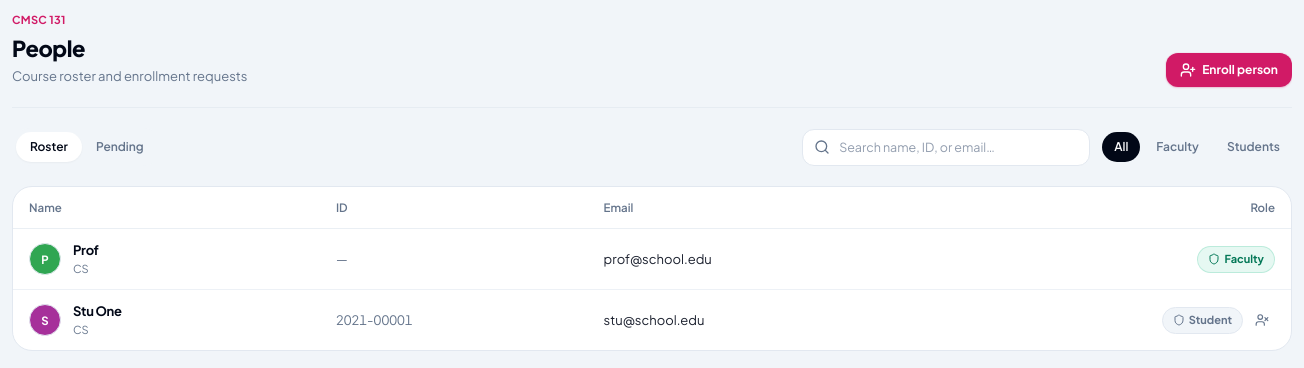
Test: PeopleView remove student › filters roster by Faculty and Students tabs correctly
Expected: the text "Prof" is shown, [73,241,99,261]
Expected: the text "Stu One" is shown, [73,302,122,322]
# Switch to Faculty filter
Click the button "Faculty". click: (1178, 147)
box: [1144,132,1211,162]
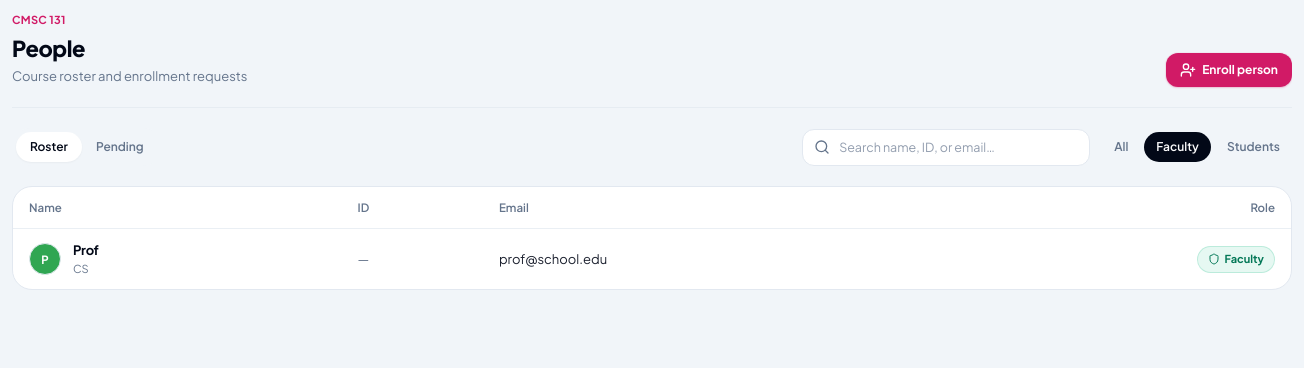
Expected: the text "Prof" is shown, [73,241,99,261]
Expected: the text "Stu One" is gone
# Switch to Students filter
Click the button "Students". click: (1253, 147)
box: [1215,132,1292,162]
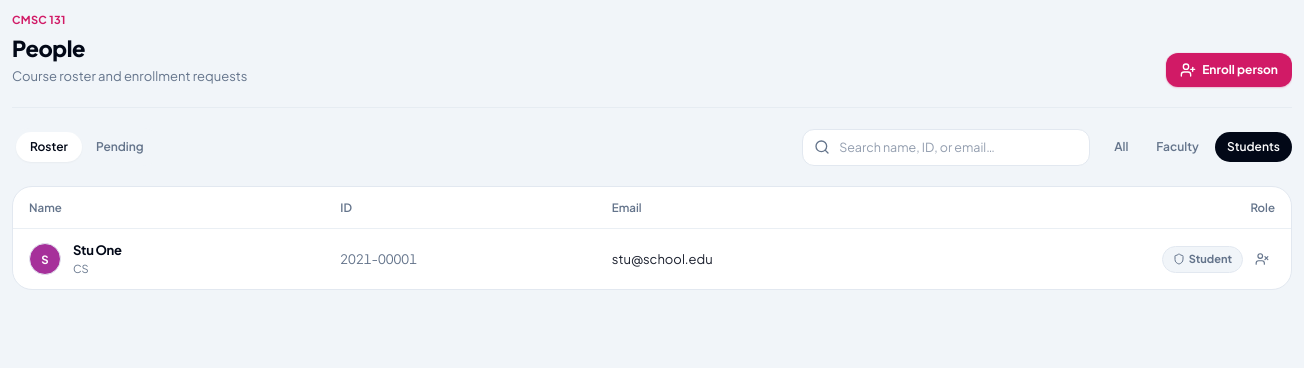
Expected: the text "Stu One" is shown, [73,241,122,261]
Expected: the text "Prof" is gone
